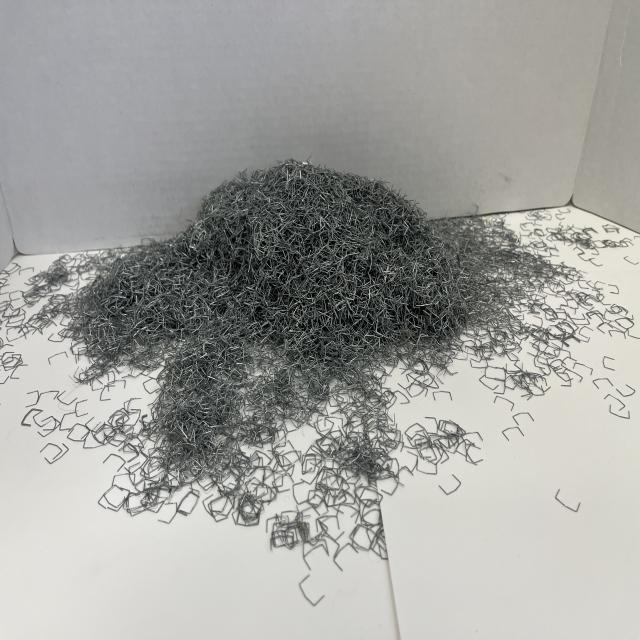staples: (48, 155, 564, 470)
